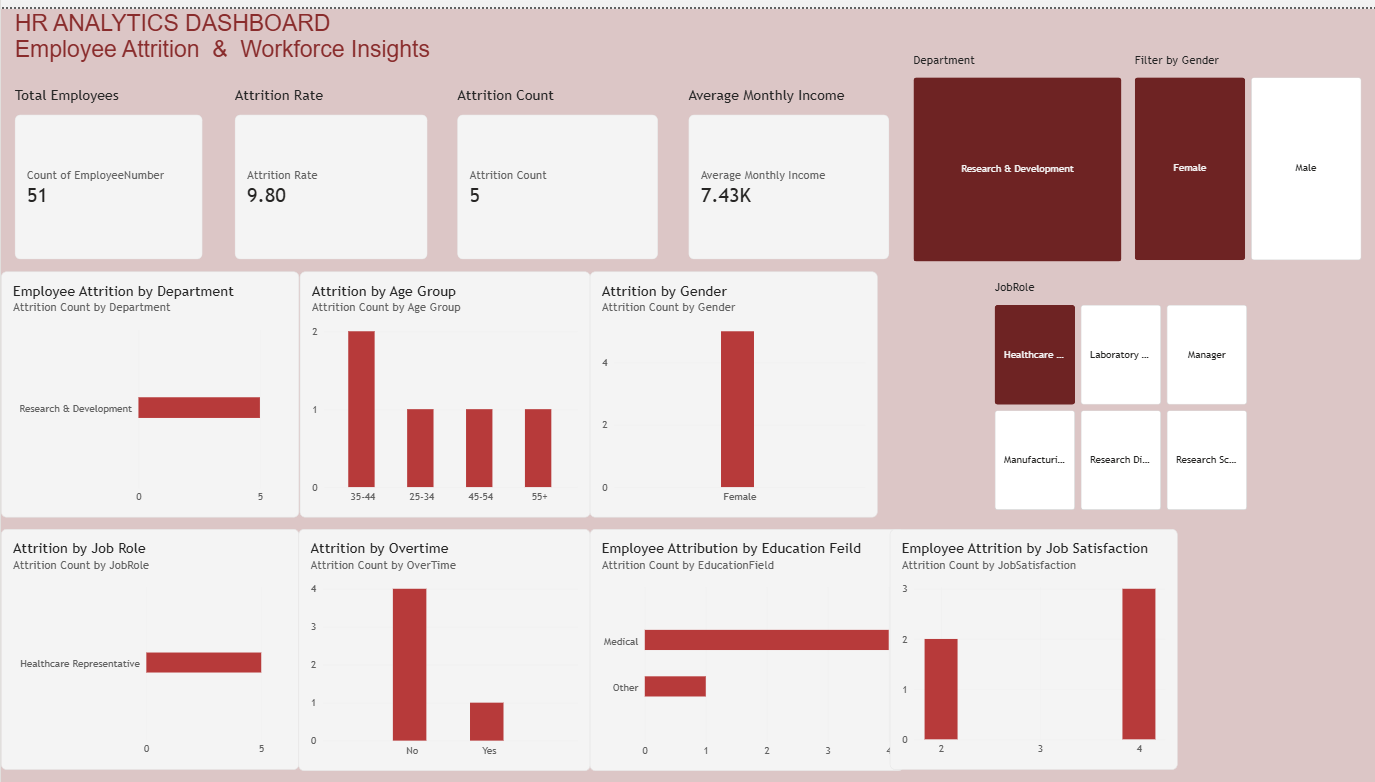

The page's visual inventory and layout, read from the dashboard file:
{"tool":"powerbi","page":{"name":"Page 1","canvas":[1920,1080],"ordinal":0},"visuals":[{"type":"cardVisual","title":"Total Employees","fields":{"Data":["CountNonNull(WA_Fn-UseC_-HR-Employee-Attrition.EmployeeNumber)"]},"box":[18.3,108.2,262.3,242.1],"z":0},{"type":"cardVisual","title":"Attrition Rate","fields":{"Data":["WA_Fn-UseC_-HR-Employee-Attrition.Attrition Rate"]},"box":[326.5,108.2,269.6,242.1],"z":1000},{"type":"cardVisual","title":"Attrition Count","fields":{"Data":["WA_Fn-UseC_-HR-Employee-Attrition.Attrition Count"]},"box":[636.5,108.2,280.6,242.1],"z":2000},{"type":"cardVisual","title":"Average Monthly Income","fields":{"Data":["WA_Fn-UseC_-HR-Employee-Attrition.Average Monthly Income"]},"box":[959.3,108.2,280.6,242.1],"z":3000},{"type":"clusteredBarChart","title":"Employee Attrition by Department","fields":{"Category":["WA_Fn-UseC_-HR-Employee-Attrition.Department"],"Y":["WA_Fn-UseC_-HR-Employee-Attrition.Attrition Count"]},"box":[0,366.8,416.4,343],"z":4000},{"type":"clusteredColumnChart","title":"Attrition by Age Group","fields":{"Category":["WA_Fn-UseC_-HR-Employee-Attrition.Age Group"],"Y":["WA_Fn-UseC_-HR-Employee-Attrition.Attrition Count"]},"box":[416.4,366.8,405.4,343],"z":5000},{"type":"clusteredColumnChart","title":"Attrition by Gender","fields":{"Category":["WA_Fn-UseC_-HR-Employee-Attrition.Gender"],"Y":["WA_Fn-UseC_-HR-Employee-Attrition.Attrition Count"]},"box":[821.7,366.8,401.7,343],"z":6000},{"type":"clusteredBarChart","title":"Attrition by Job Role","fields":{"Category":["WA_Fn-UseC_-HR-Employee-Attrition.JobRole"],"Y":["WA_Fn-UseC_-HR-Employee-Attrition.Attrition Count"]},"box":[0,726.4,416.4,335.7],"z":7000},{"type":"clusteredColumnChart","title":"Attrition by Overtime","fields":{"Category":["WA_Fn-UseC_-HR-Employee-Attrition.OverTime"],"Y":["WA_Fn-UseC_-HR-Employee-Attrition.Attrition Count"]},"box":[414.5,726.4,407.2,337.5],"z":8000},{"type":"clusteredBarChart","title":"Employee Attribution by Education Feild","fields":{"Category":["WA_Fn-UseC_-HR-Employee-Attrition.EducationField"],"Y":["WA_Fn-UseC_-HR-Employee-Attrition.Attrition Count"]},"box":[821.7,726.4,438.4,337.5],"z":9000},{"type":"clusteredColumnChart","title":"Employee Attrition by Job Satisfaction","fields":{"Category":["WA_Fn-UseC_-HR-Employee-Attrition.JobSatisfaction"],"Y":["WA_Fn-UseC_-HR-Employee-Attrition.Attrition Count"]},"box":[1240,726.4,401.7,335.7],"z":10000},{"type":"advancedSlicerVisual","title":"Filter by Gender","fields":{"Values":["WA_Fn-UseC_-HR-Employee-Attrition.Gender"]},"box":[1581.1,60.5,317.3,289.8],"z":11000},{"type":"advancedSlicerVisual","fields":{"Values":["WA_Fn-UseC_-HR-Employee-Attrition.JobRole"]},"box":[1386.7,377.9,354,321],"z":12000},{"type":"advancedSlicerVisual","fields":{"Values":["WA_Fn-UseC_-HR-Employee-Attrition.Department"]},"box":[1273,60.5,290.2,292.3],"z":13000},{"type":"textbox","box":[18.3,1.8,1221.6,91.7],"z":14000}]}

Visuals, with their boxes in screenshot pixels (x1, y1, x2, y2), scaled from the page's 1920x1080 canvas onto the 1375x782 screenshot:
"Total Employees" cardVisual: (x1=13, y1=78, x2=201, y2=254)
"Attrition Rate" cardVisual: (x1=234, y1=78, x2=427, y2=254)
"Attrition Count" cardVisual: (x1=456, y1=78, x2=657, y2=254)
"Average Monthly Income" cardVisual: (x1=687, y1=78, x2=888, y2=254)
"Employee Attrition by Department" clusteredBarChart: (x1=0, y1=266, x2=298, y2=514)
"Attrition by Age Group" clusteredColumnChart: (x1=298, y1=266, x2=589, y2=514)
"Attrition by Gender" clusteredColumnChart: (x1=588, y1=266, x2=876, y2=514)
"Attrition by Job Role" clusteredBarChart: (x1=0, y1=526, x2=298, y2=769)
"Attrition by Overtime" clusteredColumnChart: (x1=297, y1=526, x2=588, y2=770)
"Employee Attribution by Education Feild" clusteredBarChart: (x1=588, y1=526, x2=902, y2=770)
"Employee Attrition by Job Satisfaction" clusteredColumnChart: (x1=888, y1=526, x2=1176, y2=769)
"Filter by Gender" advancedSlicerVisual: (x1=1132, y1=44, x2=1360, y2=254)
advancedSlicerVisual - WA_Fn-UseC_-HR-Employee-Attrition.JobRole: (x1=993, y1=274, x2=1247, y2=506)
advancedSlicerVisual - WA_Fn-UseC_-HR-Employee-Attrition.Department: (x1=912, y1=44, x2=1119, y2=255)
textbox: (x1=13, y1=1, x2=888, y2=68)
